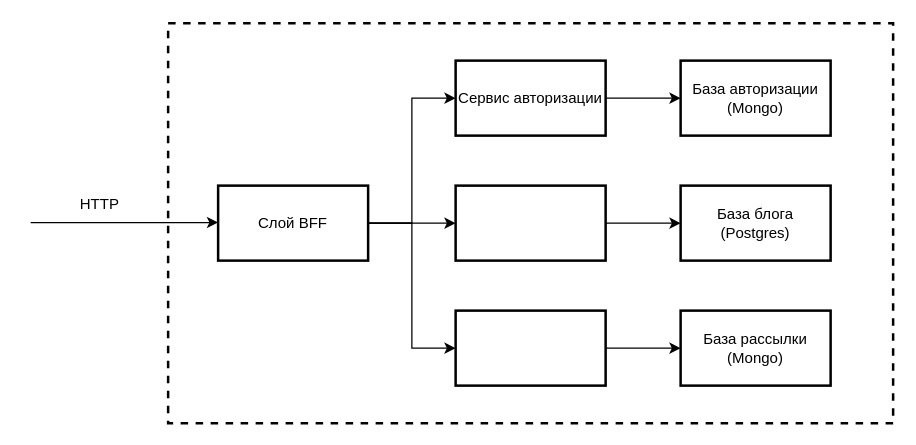
This 916x445 diagram has some shape labels left out. The shapes that lost their labels are listed below. From the top down, each one's centre as x and y in pixels, then its label:
(x=530, y=222): Сервис блога
(x=530, y=347): Сервис рассылки
